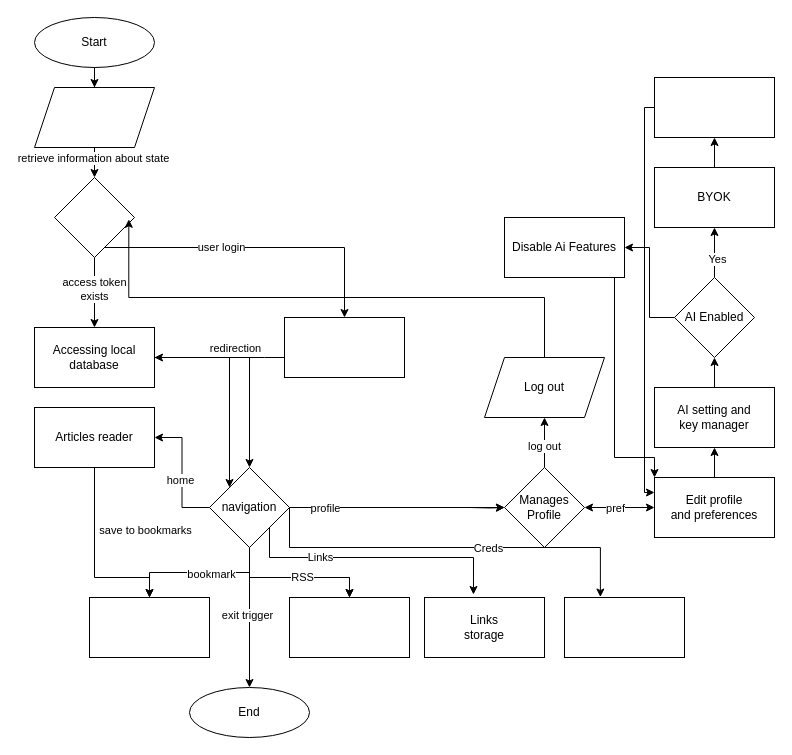
The diagram is 792 pixels wide and 755 high, and some of its shapes have lost their labels. Here are the shapes that lost their labels. From the top down, the box of each, then its label:
(34, 86, 154, 148): Enters the app and reads current state
(654, 76, 774, 138): Summery generator
(54, 176, 134, 258): OAuth
(284, 316, 404, 378): Data synchronization
(88, 596, 210, 658): Bookmarks reader
(288, 596, 410, 658): RSS manager
(564, 596, 684, 658): Creds Manager
